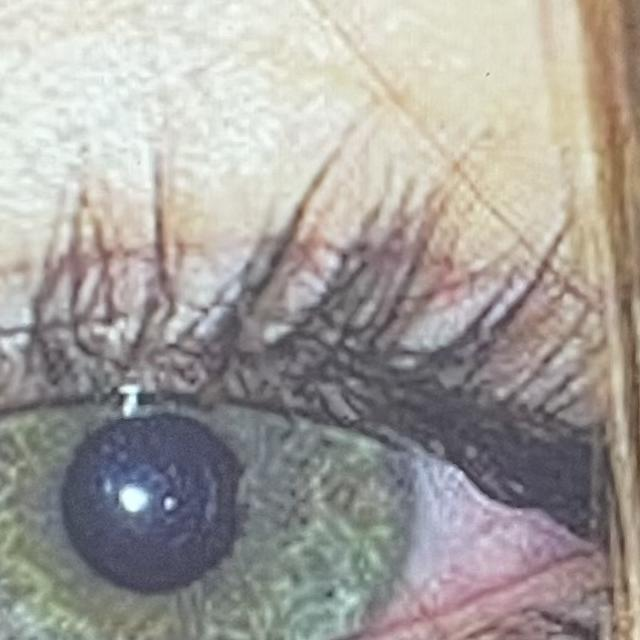eye: (0, 391, 594, 640)
iris: (0, 401, 414, 640)
